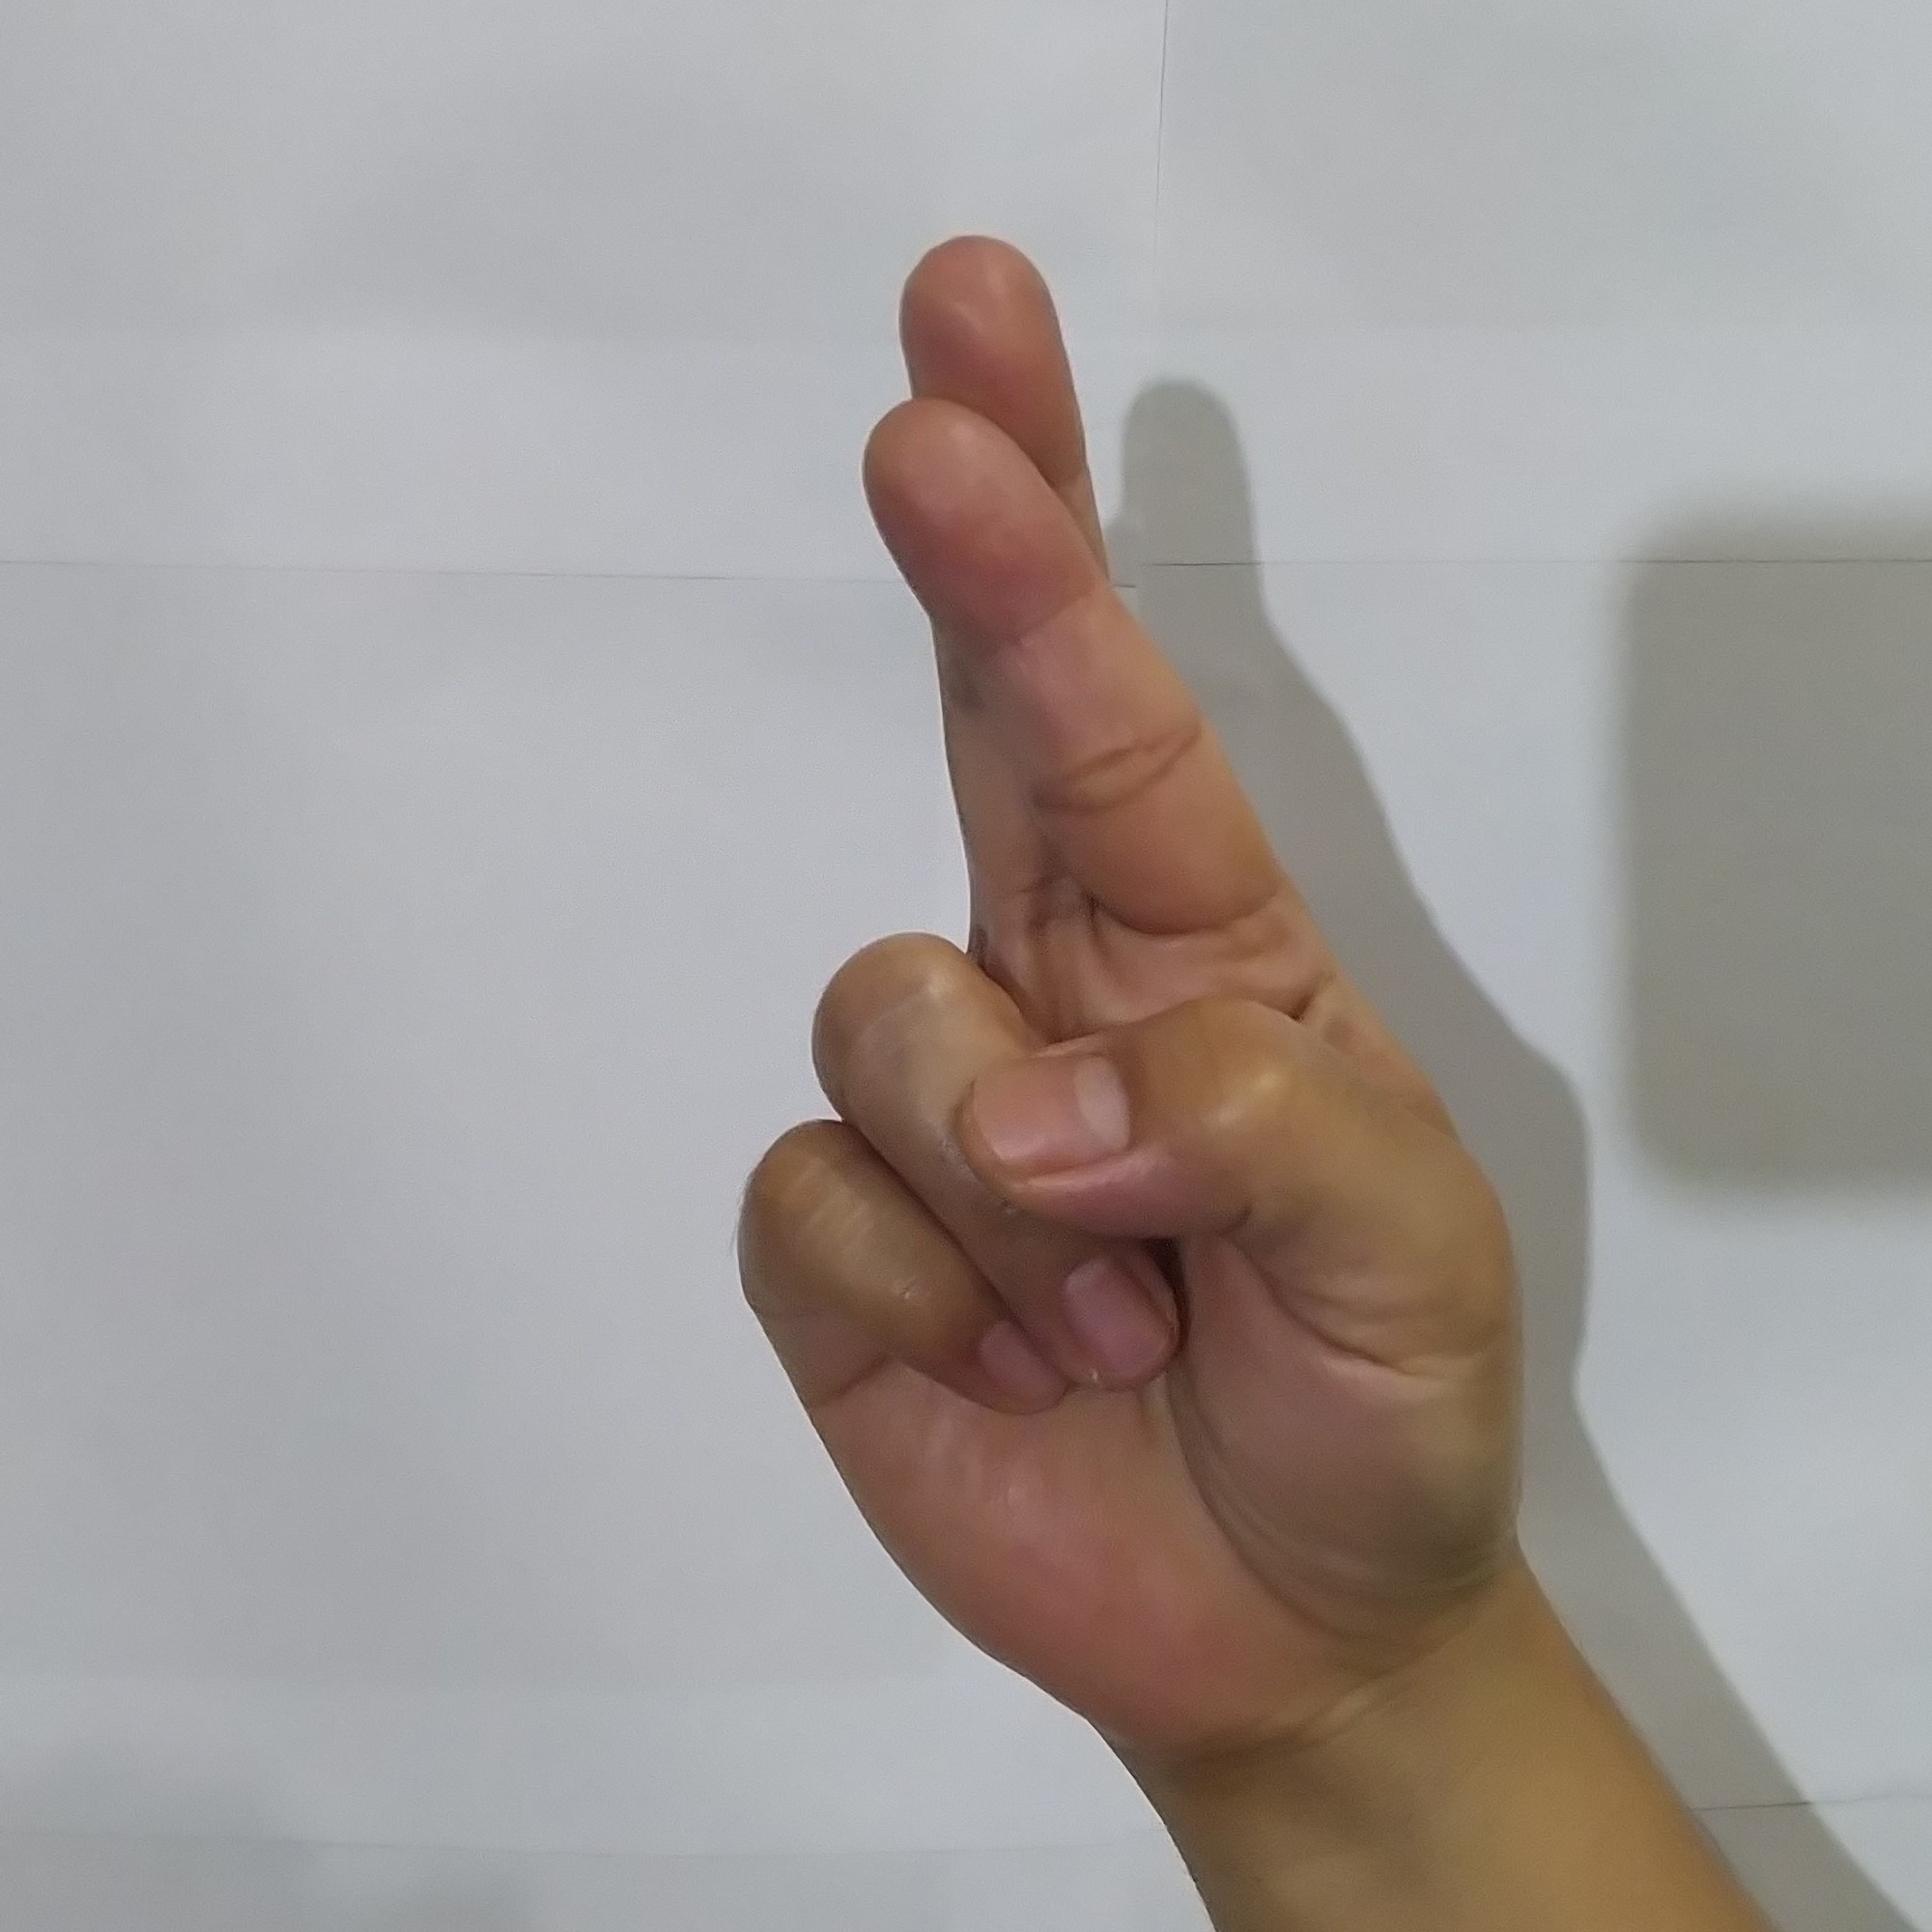R: (699, 205, 1557, 1759)
